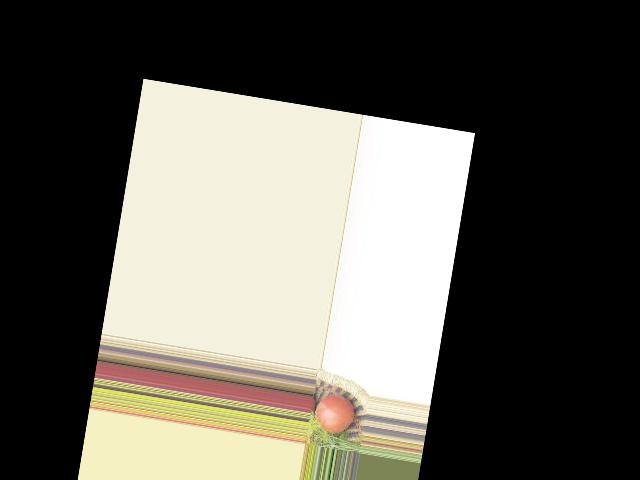tomato: (312, 392, 356, 437)
